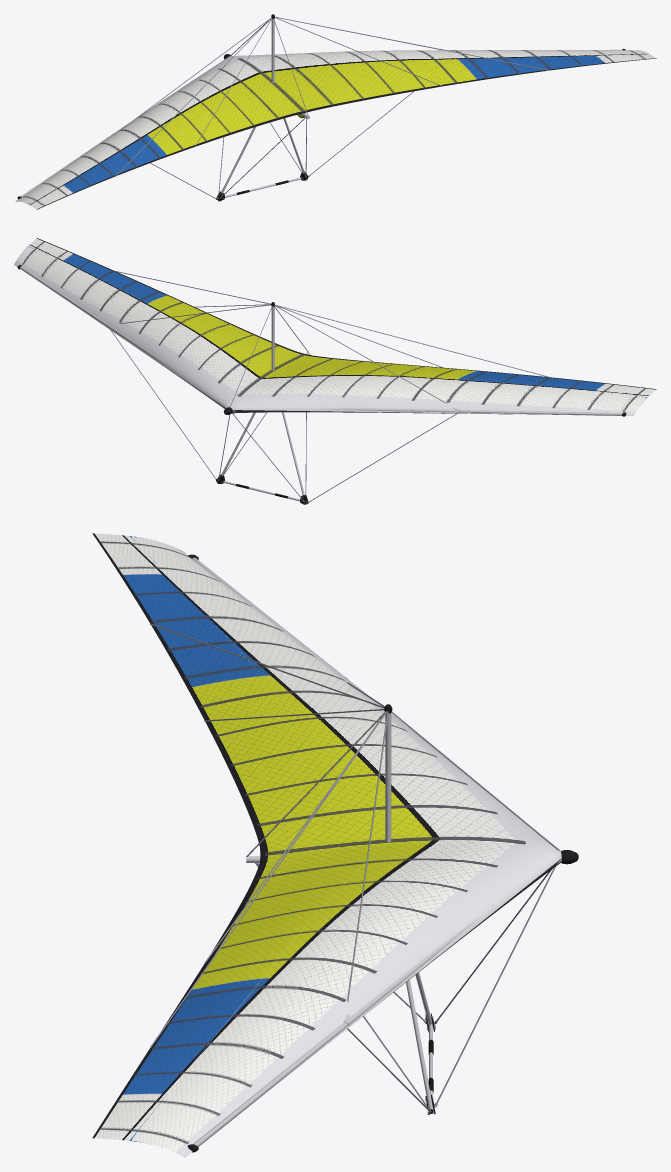
The model's file is glider_ww_cross_country.glb.
3 views of the same model, one above another, from view 1: azimuth 30°, elevation 25°; view 2: azimuth 150°, elevation 25°; view 3: azimuth 270°, elevation 25° (orthographic). The views are drawn at different scales.
Visible parts, largest first — view 1: Sail, Frame, ControlFrame; view 2: Sail, Frame, ControlFrame; view 3: Sail, Frame, ControlFrame.
Boxes of the visible parts, left/top/right/bottom form: Sail: left=15, top=50, right=656, bottom=209; Frame: left=17, top=14, right=625, bottom=199; ControlFrame: left=150, top=91, right=413, bottom=201; Sail: left=14, top=238, right=656, bottom=415; Frame: left=17, top=265, right=626, bottom=416; ControlFrame: left=110, top=330, right=457, bottom=504; Sail: left=92, top=533, right=561, bottom=1157; Frame: left=150, top=554, right=578, bottom=1152; ControlFrame: left=255, top=862, right=555, bottom=1115.
Bounding box in the file's own units: 10.36 × 2.94 × 3.52.
8 materials, 1 textured.
